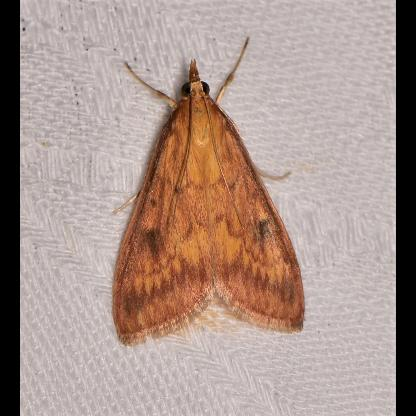Asian Corn Borer Moth: (107, 33, 309, 349)
